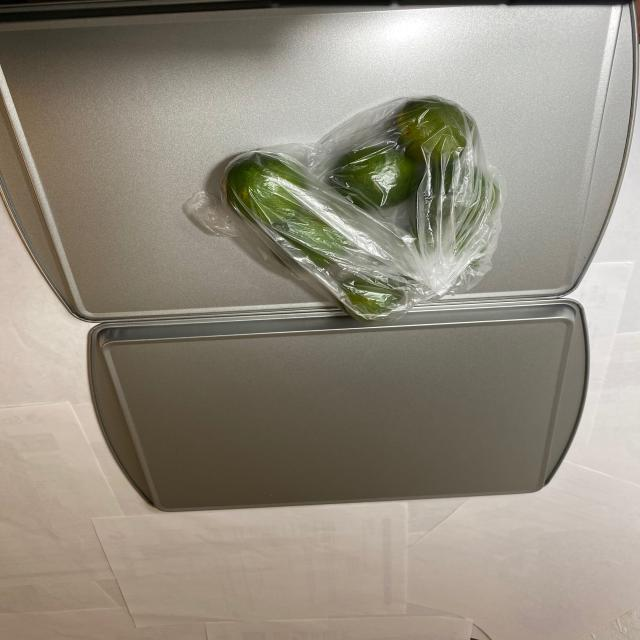lemon: (223, 99, 488, 319)
